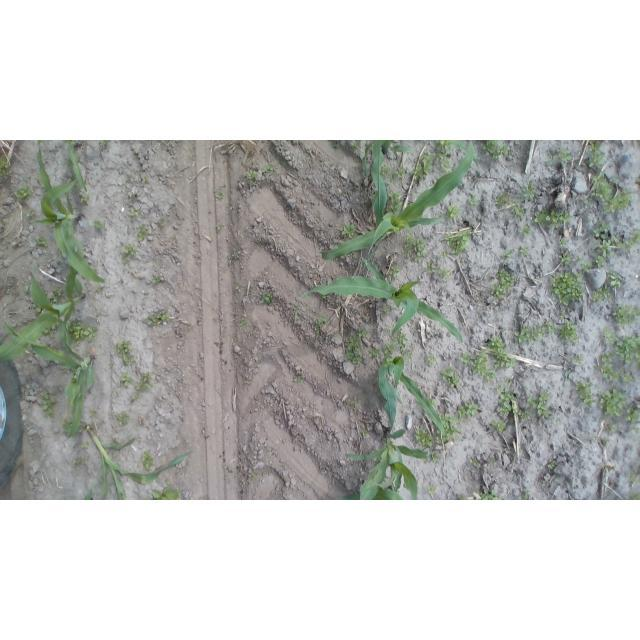Maize: (320, 141, 477, 259), (295, 257, 464, 343), (3, 318, 94, 443), (0, 235, 88, 361), (36, 141, 105, 284), (83, 425, 193, 500), (344, 428, 438, 500), (377, 355, 445, 435), (362, 140, 478, 173), (64, 140, 89, 192)
Weeds: (600, 388, 626, 416), (616, 337, 640, 365), (448, 231, 473, 253), (577, 381, 596, 408), (494, 348, 518, 368), (486, 145, 511, 164), (414, 428, 435, 447), (471, 353, 489, 375), (614, 308, 636, 325), (598, 363, 618, 381), (120, 340, 134, 365), (562, 321, 579, 341), (615, 192, 632, 211), (591, 171, 608, 190), (447, 417, 463, 437), (566, 280, 583, 297), (420, 154, 434, 174), (592, 187, 610, 202), (313, 315, 328, 333), (588, 152, 605, 167), (16, 184, 31, 201), (625, 407, 640, 424), (344, 349, 362, 363), (141, 450, 153, 471), (154, 489, 179, 499), (437, 153, 452, 169), (43, 394, 55, 414), (501, 387, 515, 404), (603, 326, 615, 345), (597, 200, 616, 212), (341, 223, 356, 238), (347, 336, 362, 351), (600, 282, 613, 299), (499, 276, 516, 289), (598, 238, 610, 256), (554, 281, 569, 295), (483, 489, 502, 500), (466, 193, 480, 207), (558, 295, 582, 303), (558, 270, 574, 282), (415, 166, 427, 182), (465, 402, 479, 415), (560, 148, 572, 163), (492, 420, 507, 432), (456, 404, 468, 419), (406, 234, 417, 250), (134, 380, 151, 390), (440, 140, 453, 153), (592, 226, 606, 238), (590, 142, 604, 154), (527, 329, 538, 344), (537, 403, 548, 418), (491, 337, 506, 348), (498, 403, 510, 416), (495, 268, 509, 279), (512, 204, 523, 218), (125, 242, 136, 256), (610, 275, 622, 287), (558, 250, 570, 262), (138, 226, 147, 242), (155, 309, 167, 321), (620, 372, 632, 384), (516, 331, 529, 342), (416, 237, 427, 250), (79, 191, 90, 204), (71, 325, 82, 338), (83, 328, 96, 339), (397, 333, 407, 347), (525, 185, 535, 199), (383, 344, 397, 354), (264, 164, 281, 172), (425, 262, 437, 273), (122, 375, 133, 387), (448, 374, 458, 387), (547, 211, 557, 224), (368, 347, 381, 357), (72, 457, 85, 467), (445, 206, 459, 215), (441, 368, 453, 378), (602, 350, 612, 362), (490, 284, 502, 294), (521, 223, 531, 235), (415, 247, 427, 257), (560, 213, 572, 223), (533, 211, 543, 223), (395, 164, 405, 176), (214, 188, 224, 200), (36, 237, 48, 247), (593, 290, 602, 303), (485, 370, 495, 381), (261, 293, 272, 303), (117, 415, 127, 426), (548, 323, 557, 335), (440, 270, 452, 279), (528, 396, 537, 408), (522, 488, 530, 501), (428, 484, 438, 494), (94, 219, 103, 230), (540, 391, 549, 402), (519, 411, 530, 420), (357, 328, 368, 337), (596, 254, 604, 266), (539, 327, 548, 337), (560, 239, 570, 248), (519, 246, 529, 255), (574, 355, 583, 365), (151, 275, 161, 284), (460, 354, 471, 362), (548, 460, 559, 468), (440, 252, 449, 261), (247, 170, 256, 179), (389, 268, 399, 276), (145, 315, 155, 323), (129, 209, 139, 217), (581, 264, 589, 273), (0, 160, 8, 169), (141, 176, 150, 184), (142, 373, 150, 382), (629, 493, 639, 500), (240, 319, 247, 329), (405, 350, 411, 361), (502, 250, 510, 258), (427, 356, 435, 364), (83, 442, 90, 451), (564, 372, 568, 386), (236, 285, 244, 292), (473, 457, 478, 467), (297, 373, 302, 383), (233, 252, 240, 259), (456, 494, 465, 499)
